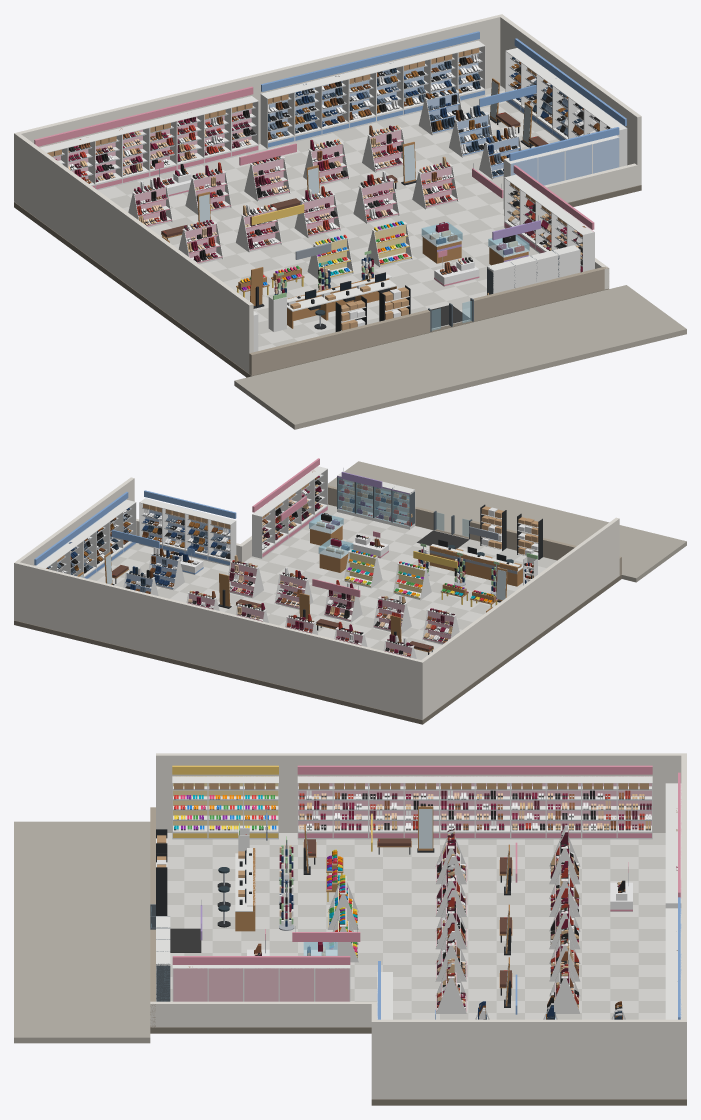
File: vzuttia.dae
The picture shows the model from 3 angles, top to bottom: view 1: azimuth 30°, elevation 25°; view 2: azimuth 150°, elevation 25°; view 3: azimuth 270°, elevation 25°; orthographic projection. The views are drawn at different scales.
Visible parts, largest first — view 1: Підлога торговельної зали, Стіни, Тротуар, Фасадна стіна з вхідною групою 2,0 м, Підвісні покажчики відділів, 1.9 Пристінна гірка — Чоловіче взуття, 1.10 Пристінна гірка — Чоловіче взуття, 1.13 Пристінна гірка — Чоловіче взуття, 1.11 Пристінна гірка — Чоловіче взуття, 1.4 Пристінна гірка — Жіноче взуття (зимові чоботи), 1.8 Пристінна гірка — Жіноче взуття (зимові чоботи), 1.12 Пристінна гірка — Чоловіче взуття (+54 smaller); view 2: Стіни, Підлога торговельної зали, Тротуар, Підвісні покажчики відділів, Фасадна стіна з вхідною групою 2,0 м, 1.37 Пристінна гірка — Чоловіче взуття (сланці, сандалети), 1.41 Пристінна гірка — Жіноче взуття (літнє), 1.39 Пристінна гірка — Чоловіче взуття (сланці, сандалети), 1.38 Пристінна гірка — Чоловіче взуття (сланці, сандалети), 1.40 Пристінна гірка — Чоловіче взуття (сланці, сандалети), 2.14 Острівна гірка — Дитяче взуття, 2.15 Острівна гірка — Дитяче взуття (+35 smaller); view 3: Підлога торговельної зали, Стіни, Тротуар, 1.26 Пристінна гірка — Жіноче взуття, 1.24 Пристінна гірка — Жіноче взуття, 1.17 Пристінна гірка — Жіноче взуття, 1.21 Пристінна гірка — Жіноче взуття, 1.25 Пристінна гірка — Жіноче взуття, 1.29 Пристінна гірка — Дитяче взуття, 1.18 Пристінна гірка — Жіноче взуття, 1.20 Пристінна гірка — Жіноче взуття, 1.28 Пристінна гірка — Дитяче взуття (+30 smaller).
Boxes of the visible parts, x1,y1,x2,y2 form: Підлога торговельної зали: [14, 85, 641, 377]; Стіни: [14, 14, 641, 373]; Тротуар: [234, 285, 686, 429]; Фасадна стіна з вхідною групою 2,0 м: [249, 266, 608, 375]; Підвісні покажчики відділів: [239, 85, 540, 259]; 1.9 Пристінна гірка — Чоловіче взуття: [260, 78, 294, 148]; 1.10 Пристінна гірка — Чоловіче взуття: [288, 71, 321, 142]; 1.13 Пристінна гірка — Чоловіче взуття: [370, 51, 403, 122]; 1.11 Пристінна гірка — Чоловіче взуття: [315, 64, 349, 135]; 1.4 Пристінна гірка — Жіноче взуття (зимові чоботи): [116, 113, 149, 183]; 1.8 Пристінна гірка — Жіноче взуття (зимові чоботи): [225, 86, 258, 157]; 1.12 Пристінна гірка — Чоловіче взуття: [342, 58, 376, 128]; Стіни: [14, 477, 619, 719]; Підлога торговельної зали: [14, 504, 621, 724]; Тротуар: [328, 461, 686, 582]; Підвісні покажчики відділів: [111, 468, 498, 597]; Фасадна стіна з вхідною групою 2,0 м: [328, 485, 621, 575]; 1.37 Пристінна гірка — Чоловіче взуття (сланці, сандалети): [208, 507, 236, 566]; 1.41 Пристінна гірка — Жіноче взуття (літнє): [252, 497, 275, 558]; 1.39 Пристінна гірка — Чоловіче взуття (сланці, сандалети): [162, 496, 190, 553]; 1.38 Пристінна гірка — Чоловіче взуття (сланці, сандалети): [185, 501, 212, 560]; 1.40 Пристінна гірка — Чоловіче взуття (сланці, сандалети): [139, 490, 167, 548]; 2.14 Острівна гірка — Дитяче взуття: [393, 561, 431, 600]; 2.15 Острівна гірка — Дитяче взуття: [343, 550, 382, 588]; Підлога торговельної зали: [150, 833, 686, 1105]; Стіни: [150, 753, 686, 1099]; Тротуар: [14, 821, 150, 1043]; 1.26 Пристінна гірка — Жіноче взуття: [297, 765, 333, 839]; 1.24 Пристінна гірка — Жіноче взуття: [368, 765, 404, 839]; 1.17 Пристінна гірка — Жіноче взуття: [617, 765, 652, 839]; 1.21 Пристінна гірка — Жіноче взуття: [475, 765, 510, 839]; 1.25 Пристінна гірка — Жіноче взуття: [333, 765, 368, 839]; 1.29 Пристінна гірка — Дитяче взуття: [172, 765, 207, 839]; 1.18 Пристінна гірка — Жіноче взуття: [581, 765, 616, 839]; 1.20 Пристінна гірка — Жіноче взуття: [510, 765, 545, 839]; 1.28 Пристінна гірка — Дитяче взуття: [208, 765, 243, 839].
Bounding box in the file's own units: 23.2 × 23.7 × 3.25.
